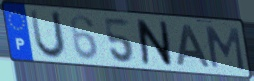5: (102, 16, 136, 65)
6: (68, 14, 100, 63)
A: (175, 23, 212, 69)
M: (204, 24, 247, 73)
N: (135, 18, 175, 69)
U: (27, 8, 68, 61)
